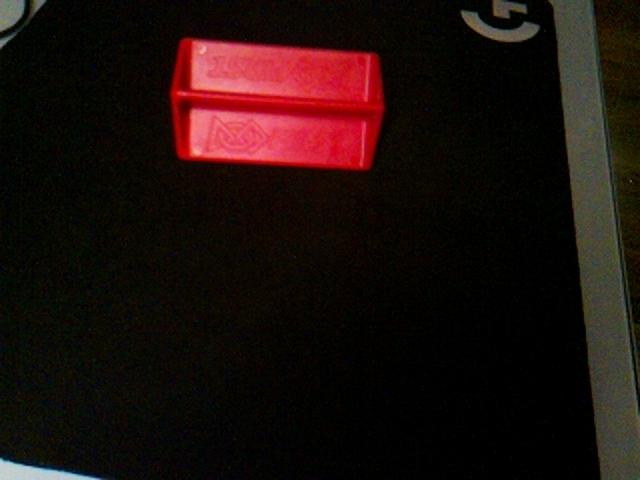red: (169, 36, 387, 173)
